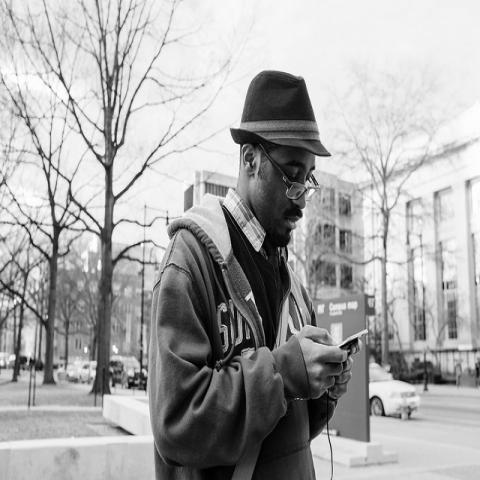car: (368, 362, 421, 420), (66, 360, 96, 384), (0, 350, 10, 368), (6, 352, 16, 369), (36, 362, 44, 371), (52, 363, 59, 369)
truck: (109, 356, 147, 390)
